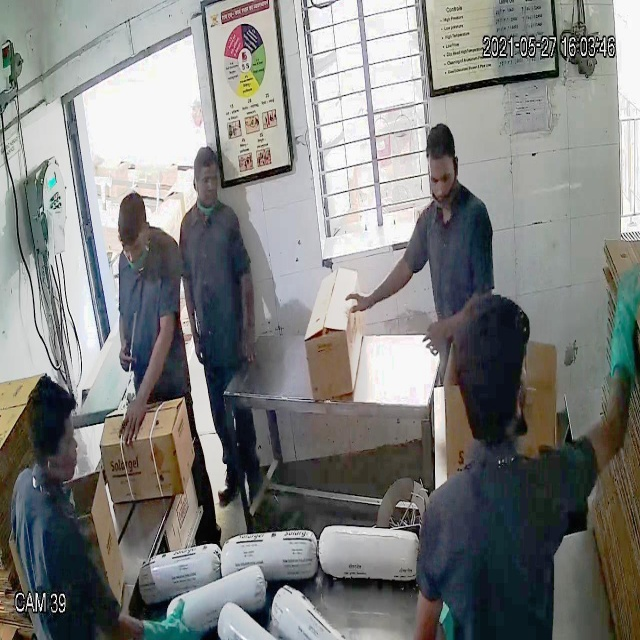Sin_gafas: (114, 233, 157, 263), (426, 159, 461, 193)
